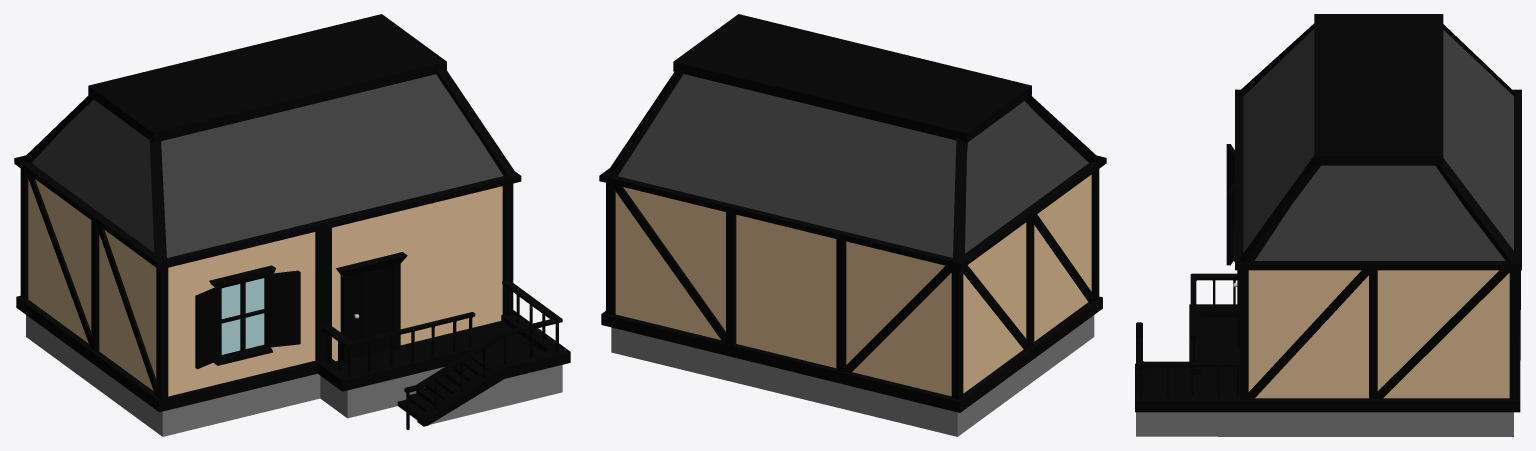
File: Building 1.fbx
3 renders of one model, left to right at view 1: azimuth 30°, elevation 25°; view 2: azimuth 150°, elevation 25°; view 3: azimuth 270°, elevation 25°, orthographic.
Parts seen in each view (by area): view 1: Cube, Cube.053, Cube.042, Cube.001_cell.005, Cube.001_cell.004, Cube.005, Cube.004; view 2: Cube, Cube.053, Cube.001_cell.004; view 3: Cube, Cube.053, Cube.001_cell.004, Cube.001_cell.005, Cube.005, Cube.042.
Part boxes in pixels (x1,y1,x2,y2): Cube: [28, 74, 503, 396]; Cube.053: [14, 14, 570, 426]; Cube.042: [195, 265, 300, 369]; Cube.001_cell.005: [320, 321, 562, 424]; Cube.001_cell.004: [26, 315, 320, 436]; Cube.005: [322, 281, 562, 429]; Cube.004: [336, 252, 407, 362]; Cube: [615, 72, 1091, 396]; Cube.053: [599, 14, 1106, 412]; Cube.001_cell.004: [611, 315, 1094, 436]; Cube: [1243, 29, 1513, 398]; Cube.053: [1135, 14, 1521, 412]; Cube.001_cell.004: [1243, 412, 1513, 436]; Cube.001_cell.005: [1136, 317, 1243, 436]; Cube.005: [1136, 273, 1239, 396]; Cube.042: [1226, 144, 1234, 265].
Bounding box in the file's own units: 1108 × 799 × 1036.
